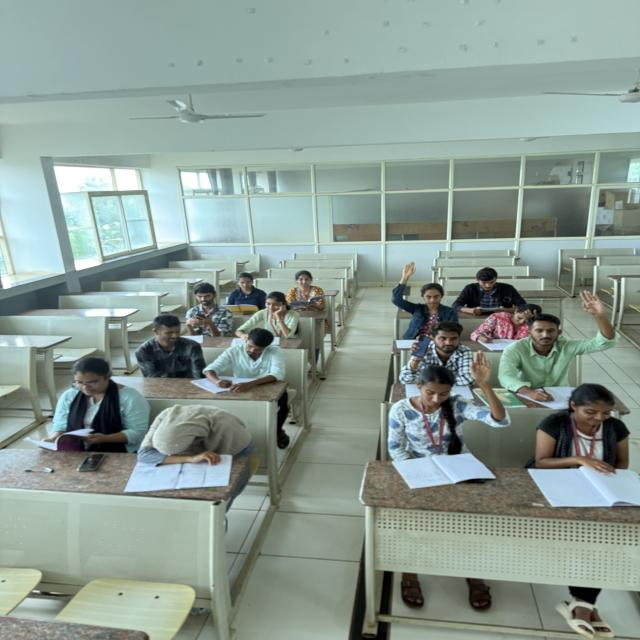Hand Rising: (392, 344, 515, 442), (505, 286, 616, 388), (390, 260, 450, 334)
Reading: (23, 352, 146, 452), (526, 378, 638, 479), (454, 265, 529, 318), (214, 270, 264, 311), (283, 268, 326, 310)
Using Phone: (391, 320, 488, 384), (175, 282, 238, 339)
Writing: (201, 326, 293, 391), (234, 292, 298, 343)
